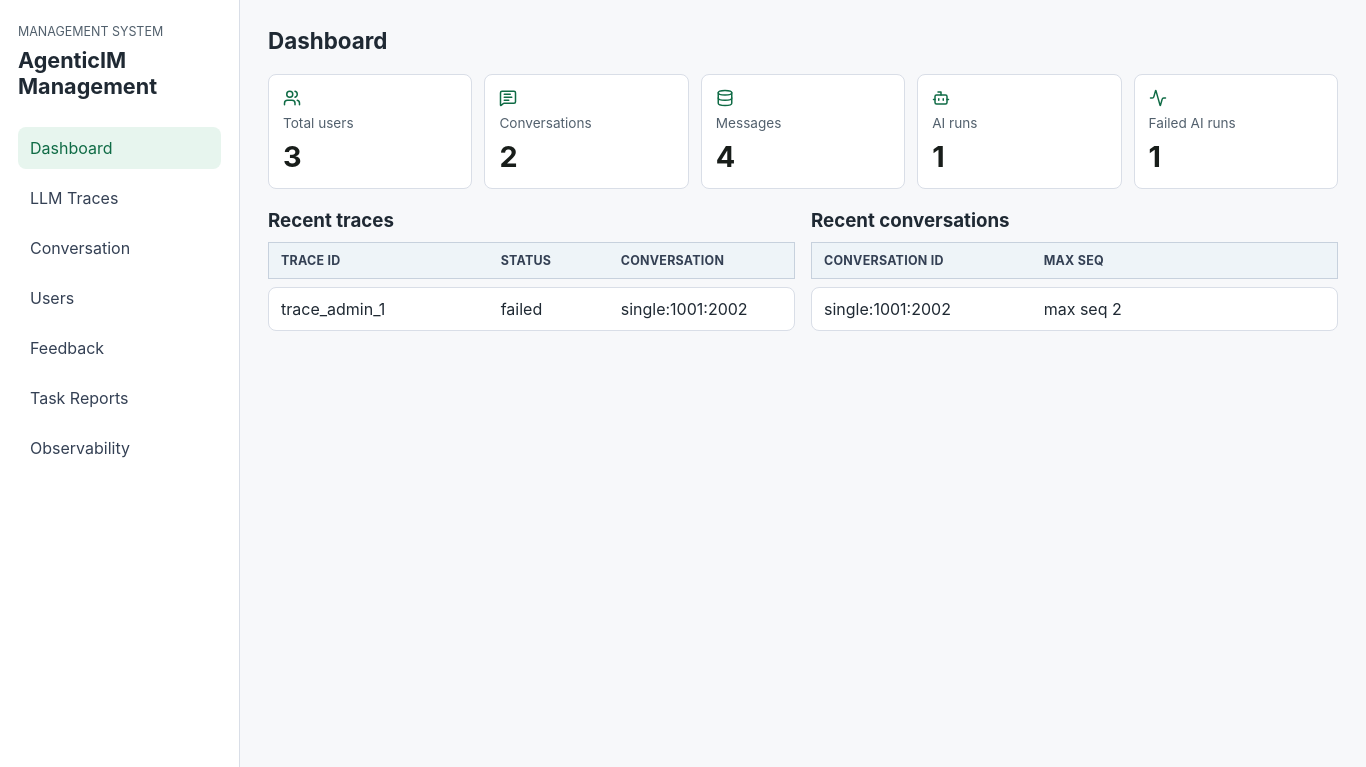
Test: AdminConsole › lists feedback attachments and allows admin status updates
Click the button "Feedback" at x=120, y=348, box x1=18 y1=327 x2=221 y2=369
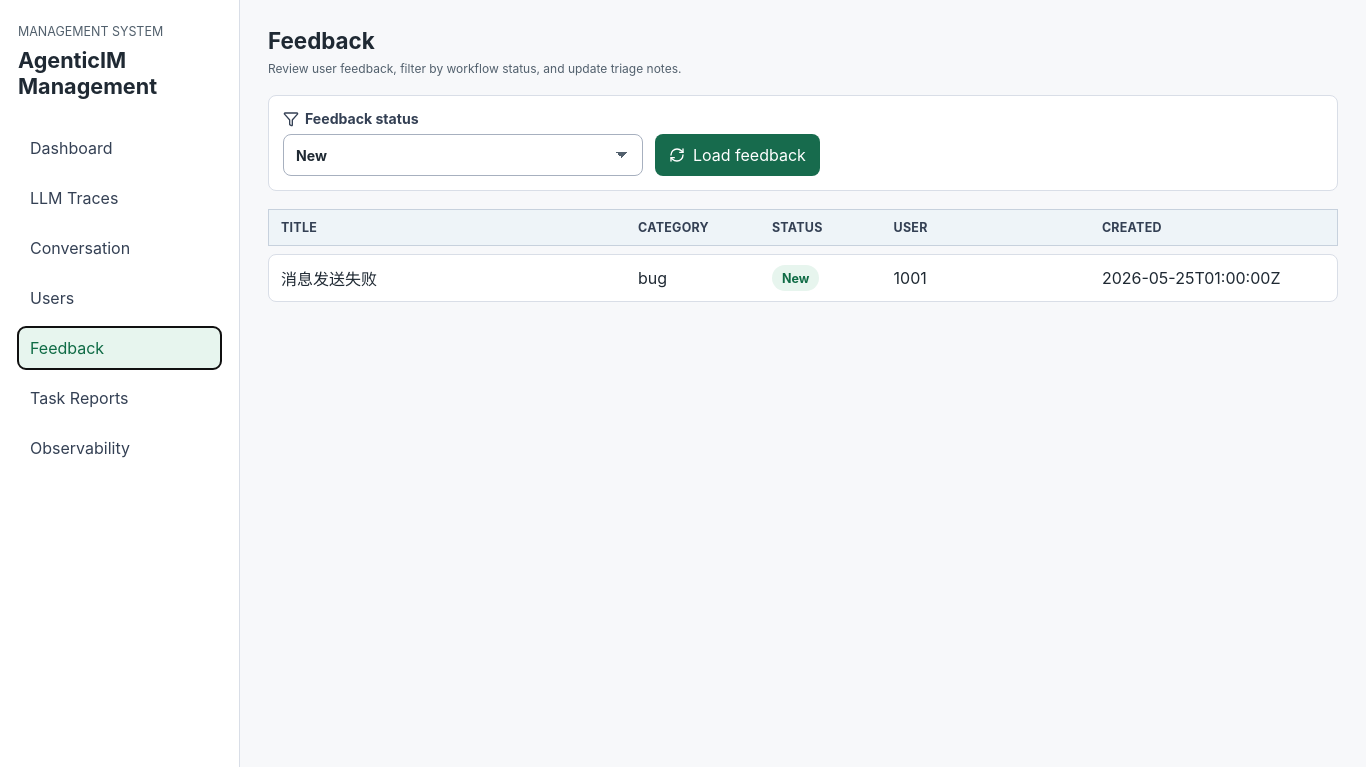
Now the text "消息发送失败" is shown, box x1=281 y1=269 x2=377 y2=289
Now the text "bug" is shown, box x1=638 y1=268 x2=667 y2=288
Now the text "New" is shown, box x1=772 y1=265 x2=819 y2=291
Click the button with aria-label "Open feedback fb_1" at x=803, y=278, box x1=268 y1=254 x2=1338 y2=302
(page scrolled)
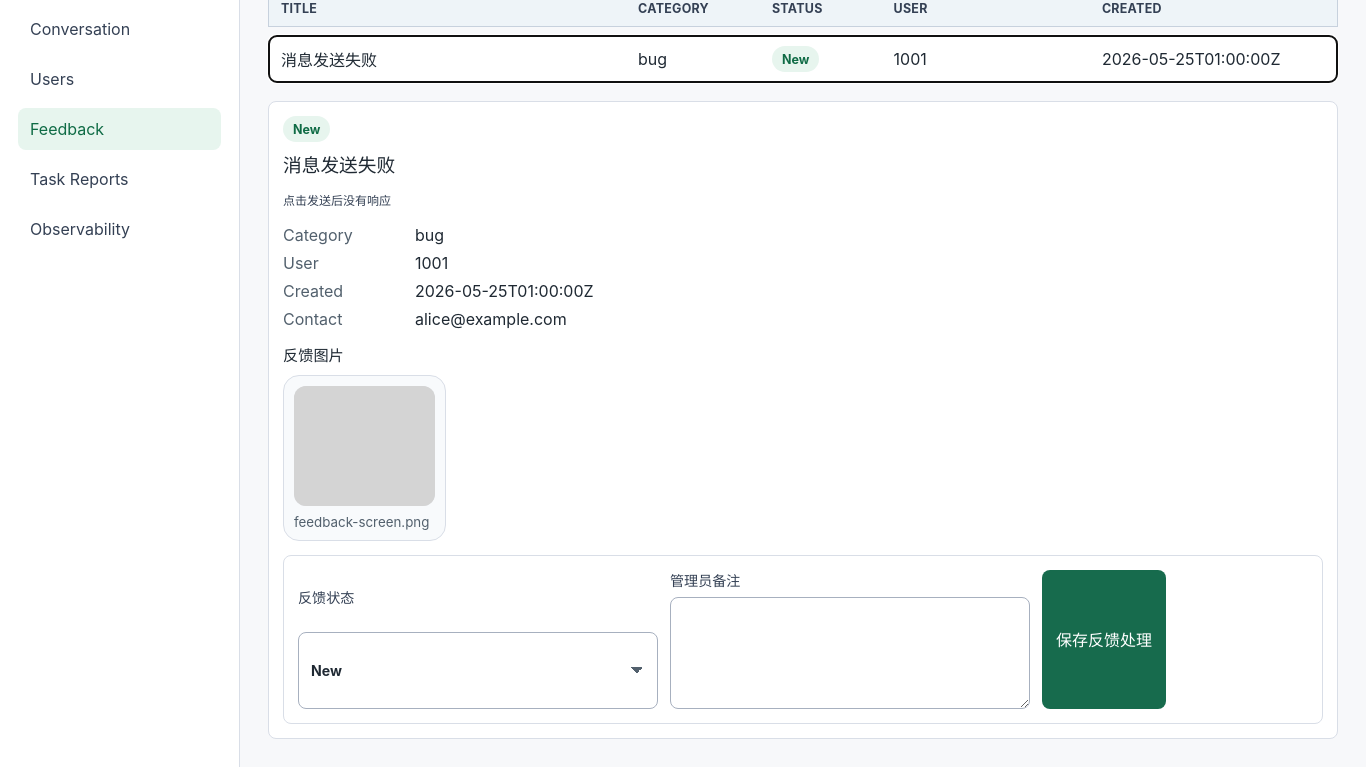
Now the heading "消息发送失败" is shown, box x1=283 y1=154 x2=395 y2=177
Select "Triaged" in the dropdown labelled "反馈状态" at x=478, y=670, box x1=298 y1=632 x2=658 y2=709
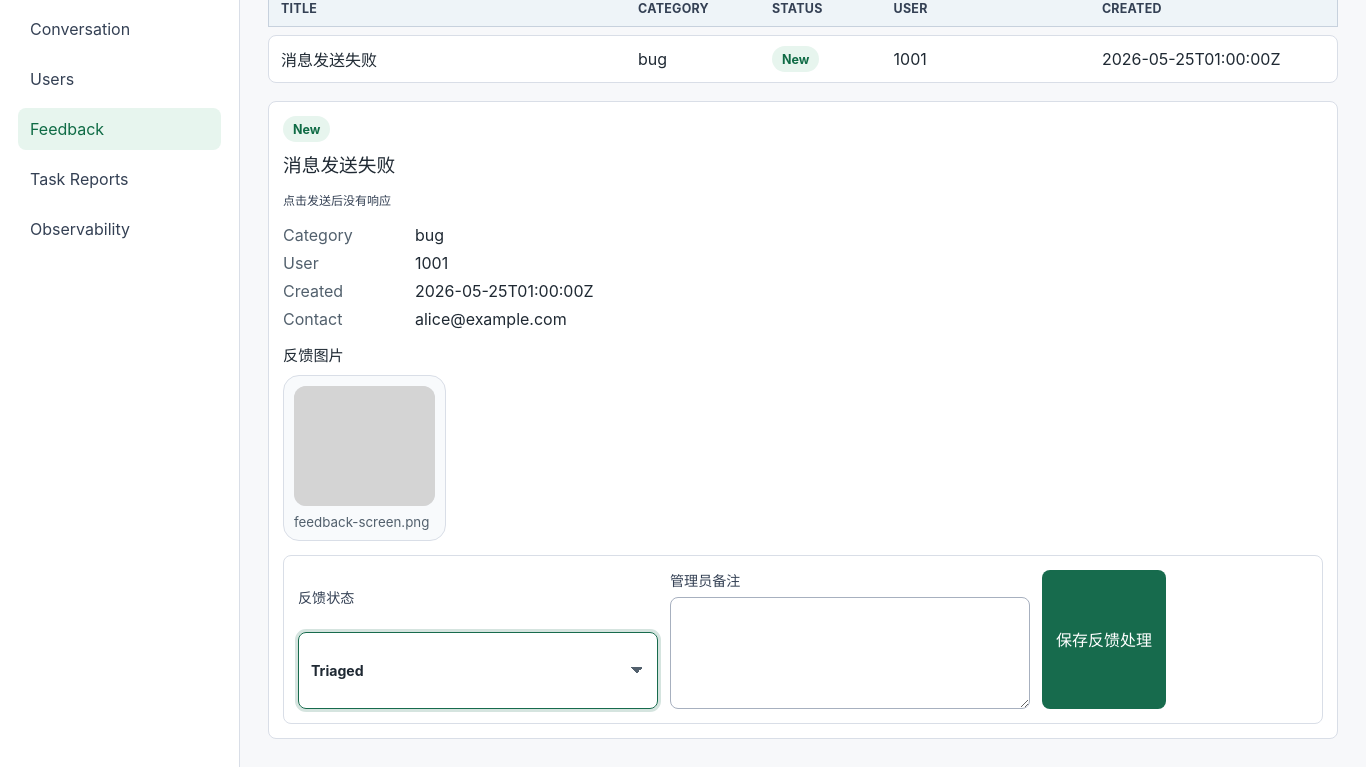
Type "已分派" into the text box labelled "管理员备注" at x=850, y=653, box x1=670 y1=597 x2=1030 y2=709
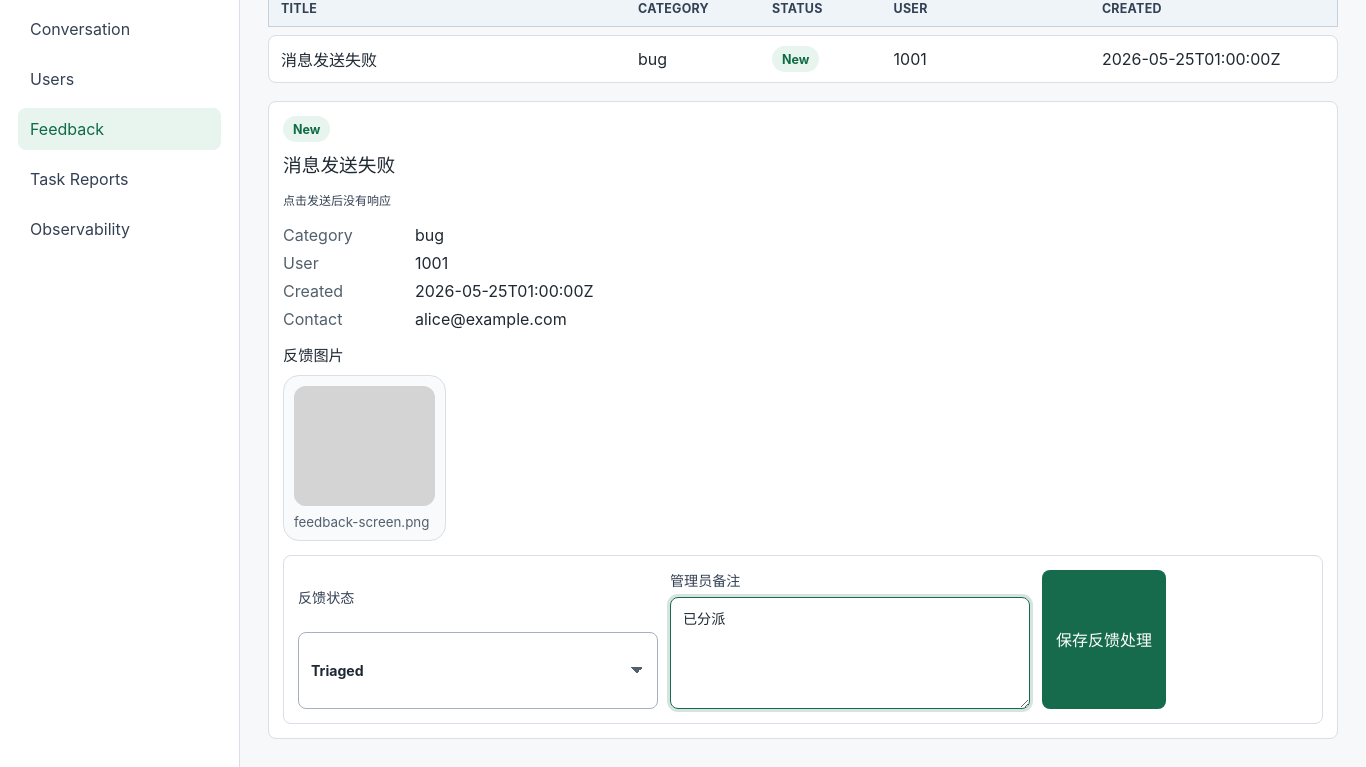
Click the button "保存反馈处理" at x=1104, y=639, box x1=1042 y1=570 x2=1166 y2=709
(page scrolled)
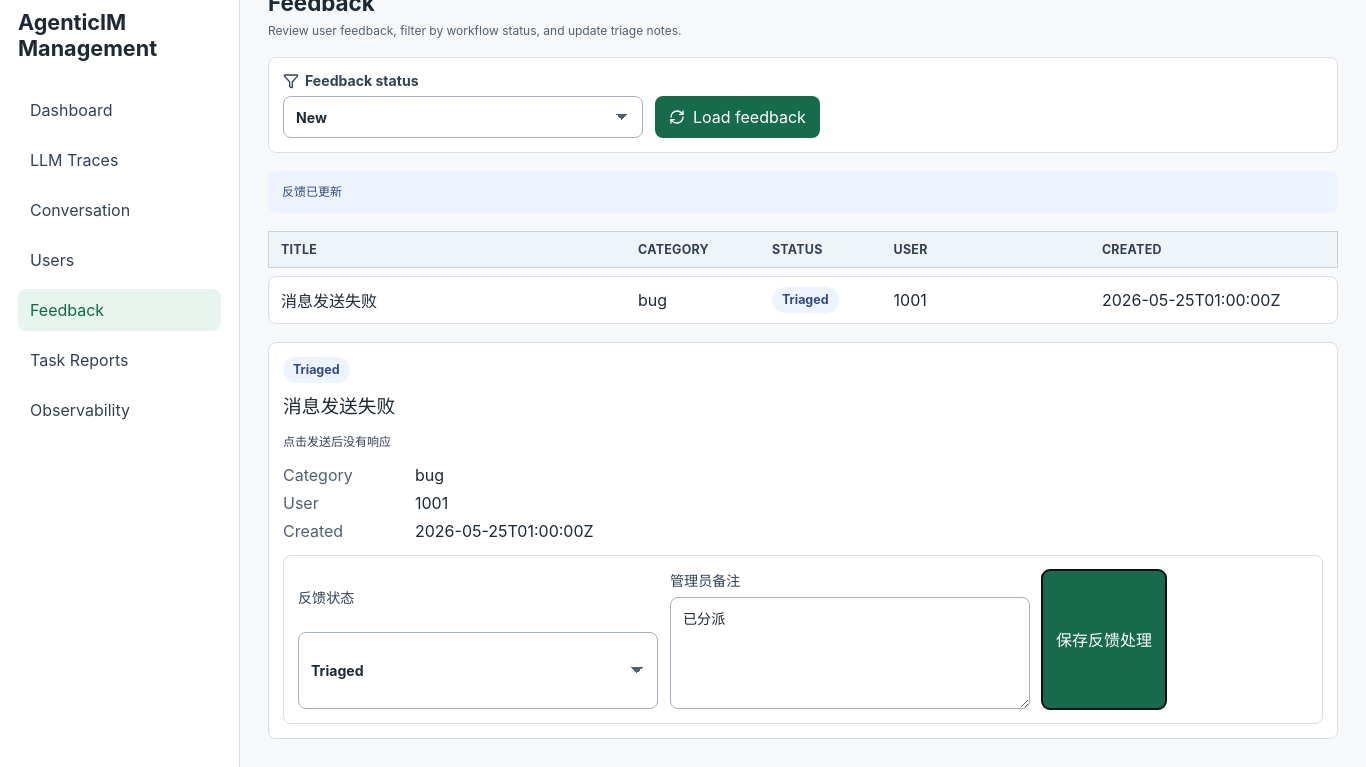
Now the message reads "反馈已更新", box x1=282 y1=184 x2=342 y2=199
